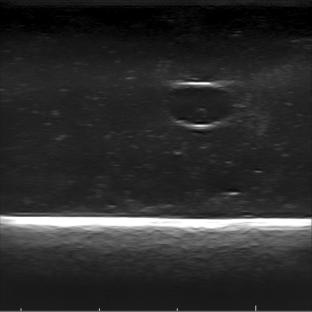vessel: (162, 80, 236, 131)
